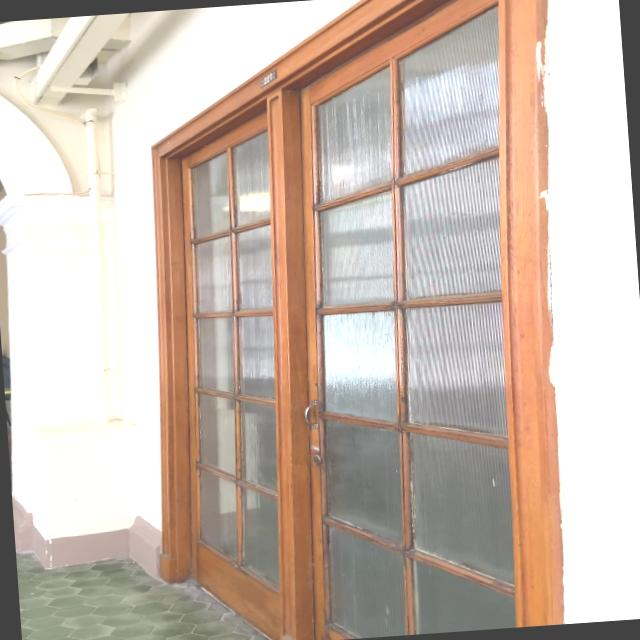room227: (257, 68, 277, 88)
